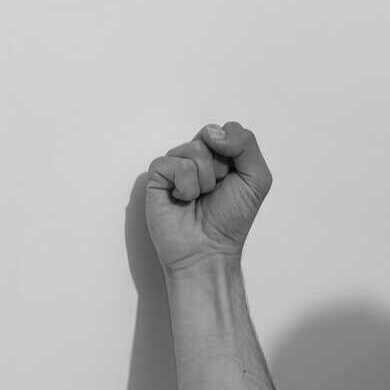S: (144, 121, 273, 268)
